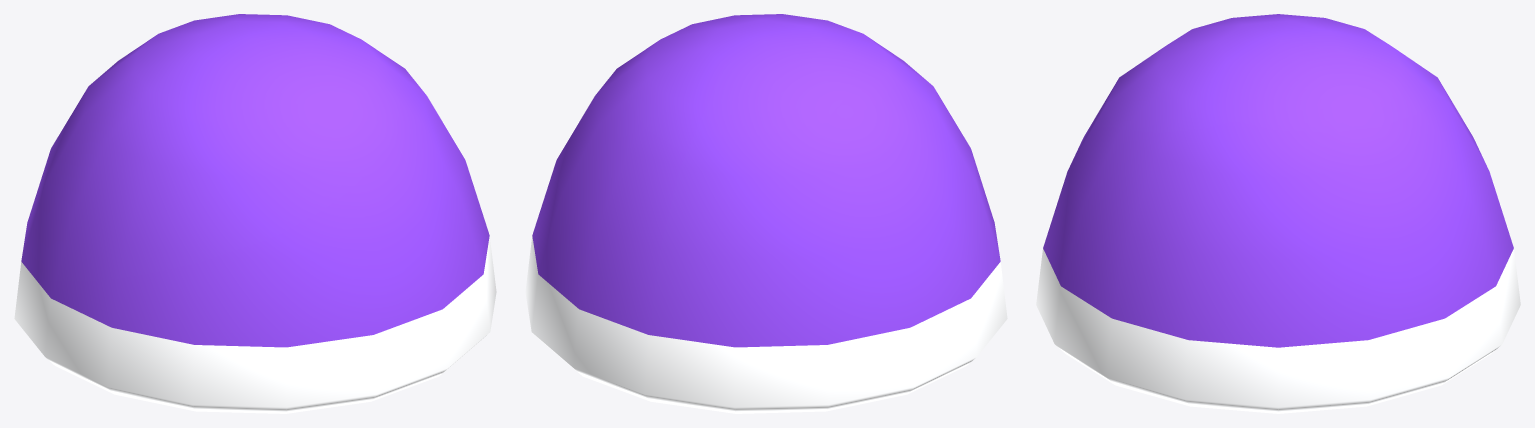
The model's file is Candy_16.glb.
The picture shows the model from 3 angles, left to right: view 1: azimuth 30°, elevation 25°; view 2: azimuth 150°, elevation 25°; view 3: azimuth 270°, elevation 25°; orthographic projection.
Parts seen in each view (by area): view 1: Candy_16; view 2: Candy_16; view 3: Candy_16.
Part boxes in pixels (bbox=[...]): Candy_16: bbox=[14, 14, 496, 413]; Candy_16: bbox=[525, 14, 1007, 413]; Candy_16: bbox=[1036, 14, 1520, 413].
Size of the model in its own units: 2.04 by 1.28 by 2.04.
1 material, 1 textured.
